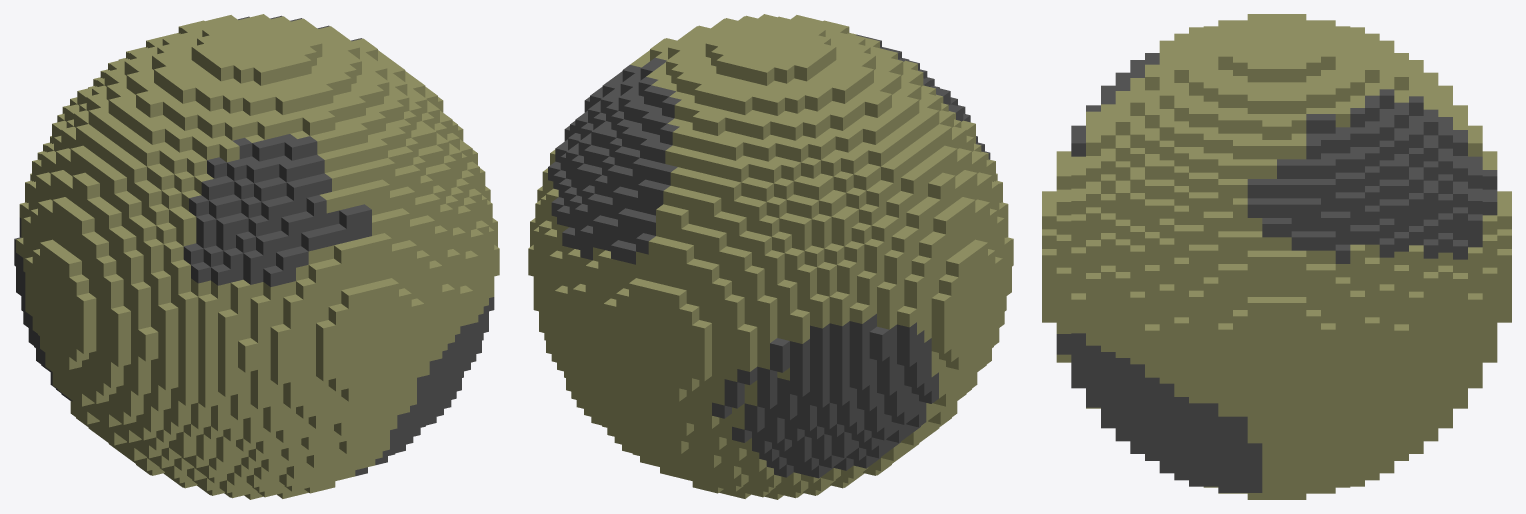
Rendered from debri.obj.
The picture shows the model from 3 angles, left to right: view 1: azimuth 30°, elevation 25°; view 2: azimuth 150°, elevation 25°; view 3: azimuth 270°, elevation 25°; orthographic projection.
Bounding box in the file's own units: 3.2 × 3.2 × 3.2.
Materials: 1 (1 with a texture image).
